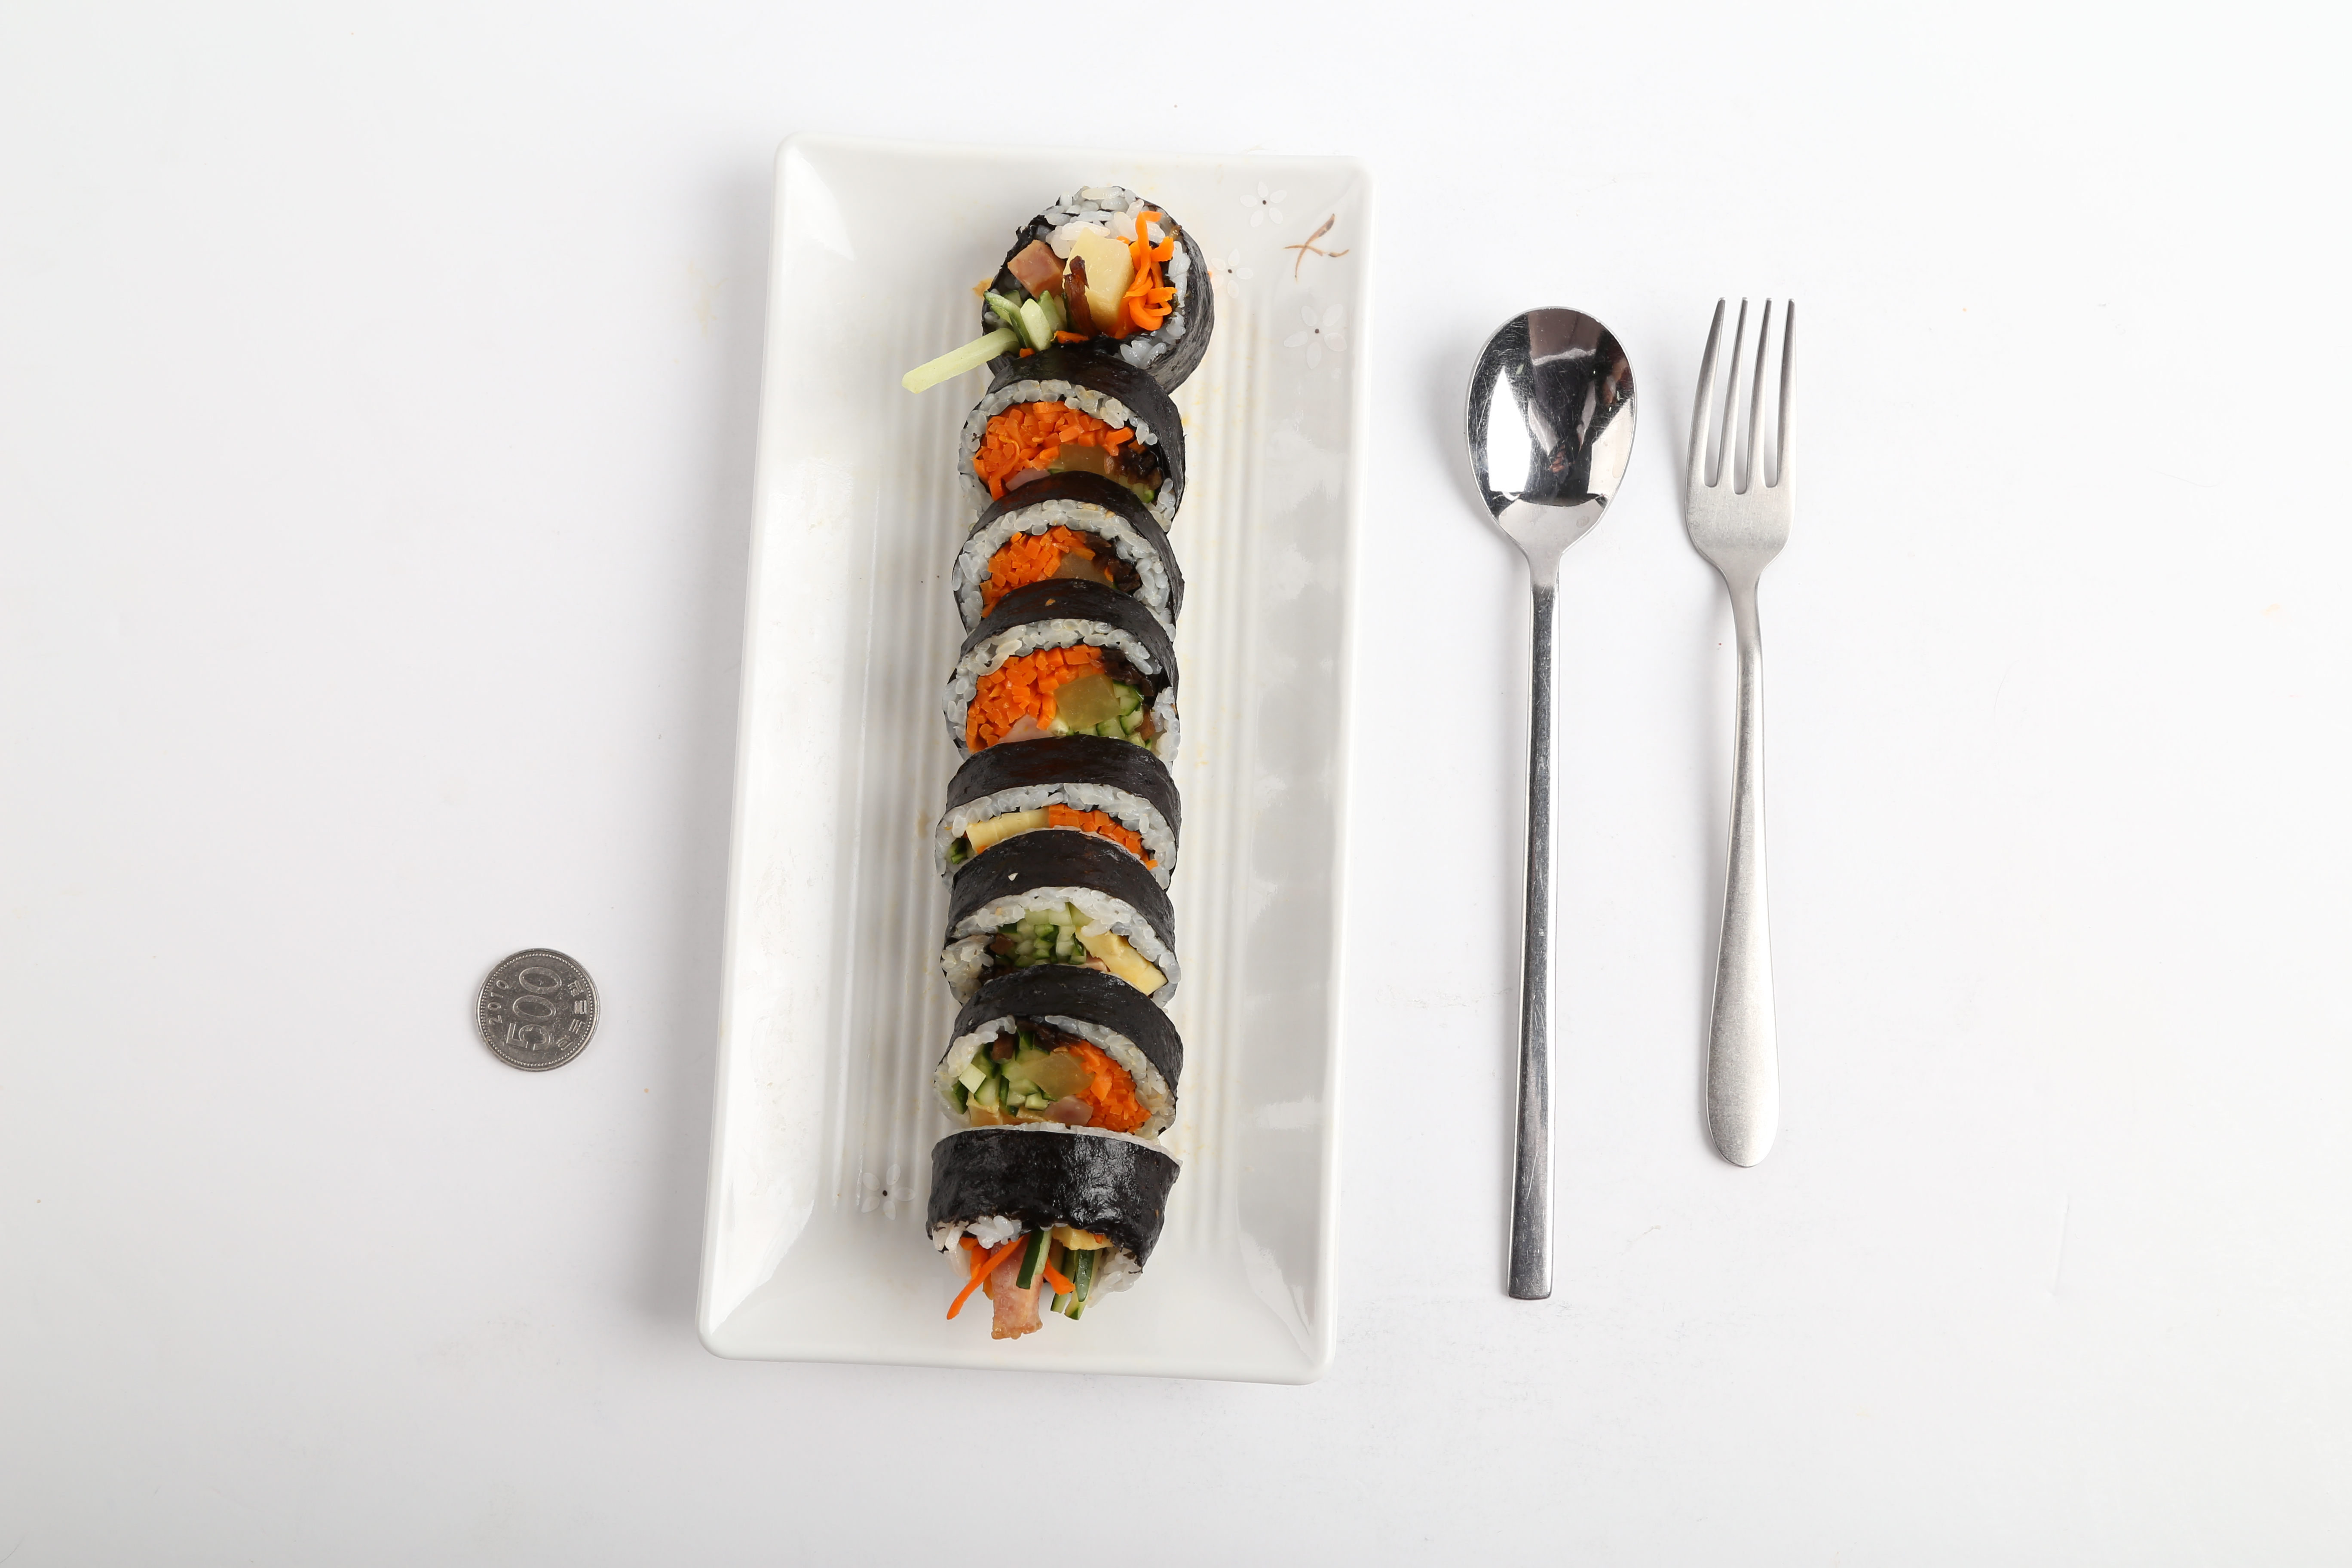dish: (688, 129, 1361, 1389)
ref_coin: (465, 945, 605, 1076)
ref_fork: (1680, 289, 1801, 619)
ref_spoon: (1463, 301, 1643, 614)
김밥: (924, 187, 1218, 1346)
